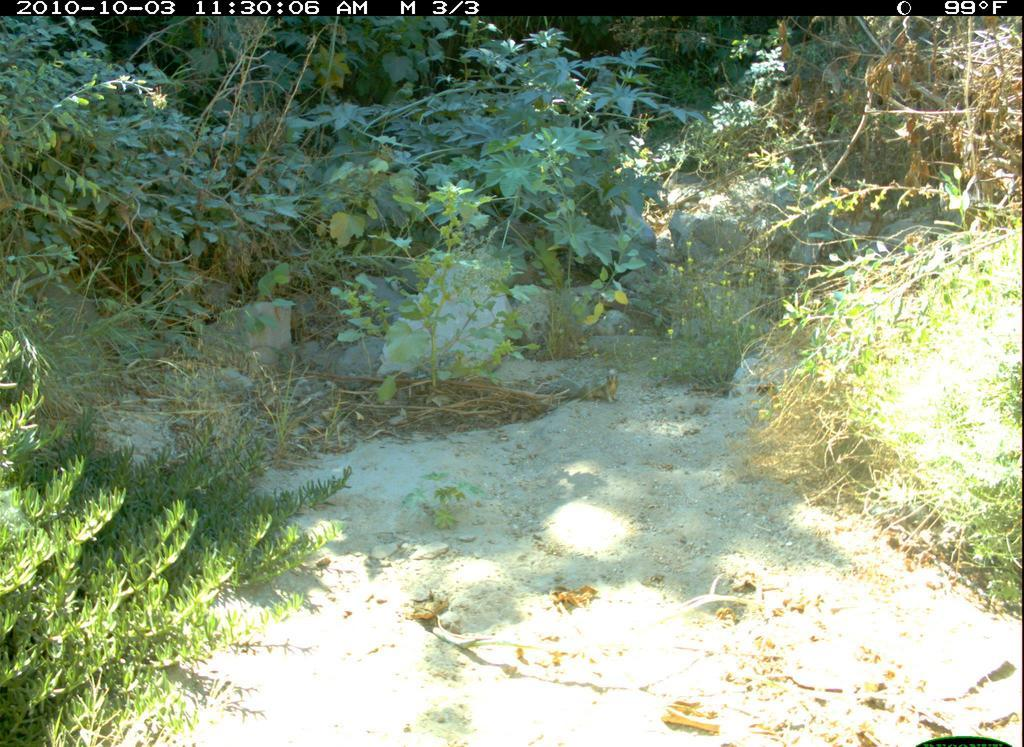squirrel: (538, 363, 625, 408)
